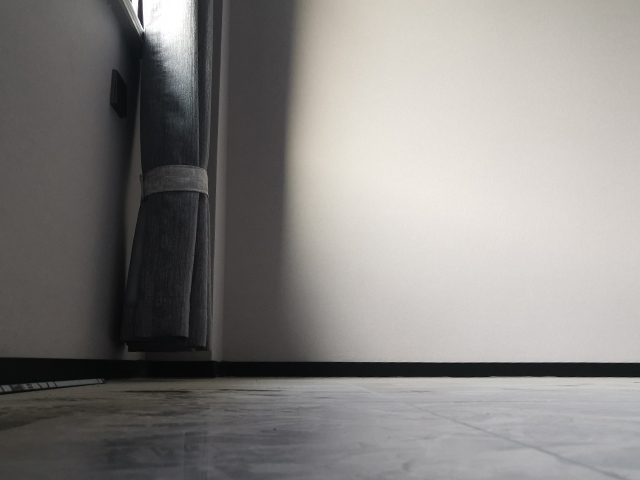curtain: (117, 1, 224, 353)
